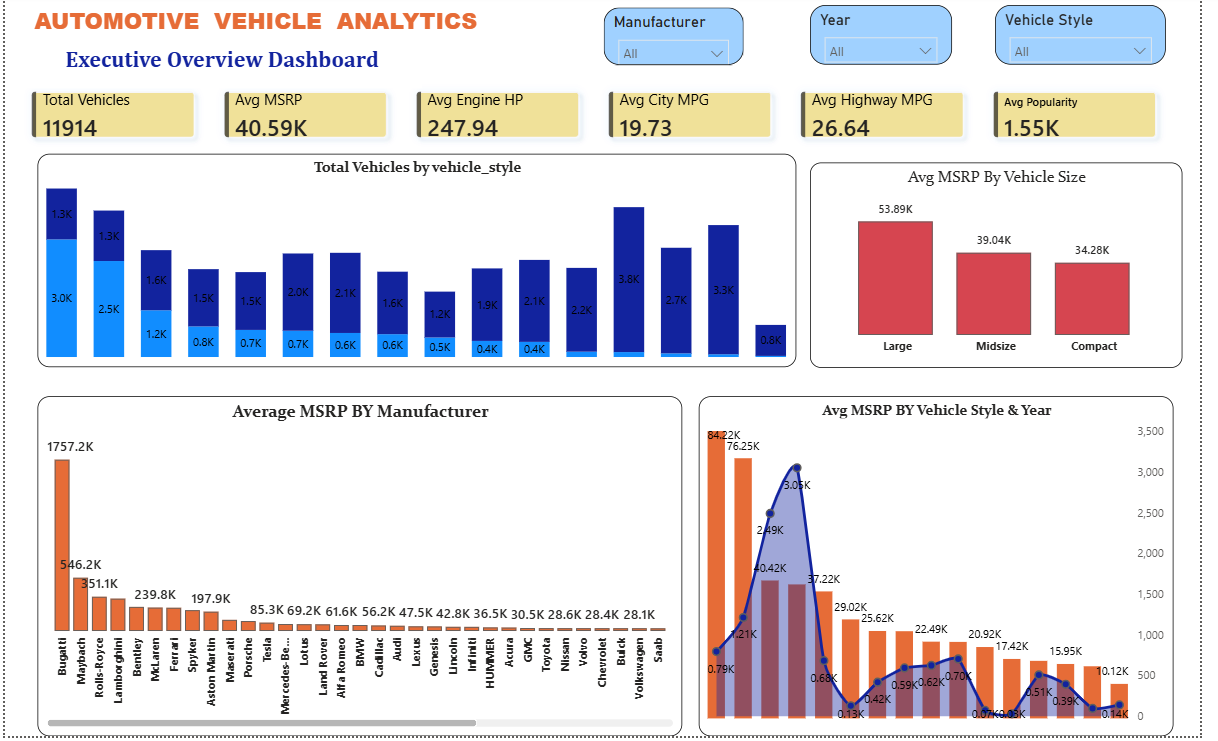

This screenshot's page, from the dashboard's own definition file:
{"tool":"powerbi","page":{"name":"Executive Dashboard","canvas":[1300,800],"ordinal":0},"visuals":[{"type":"cardVisual","fields":{"Data":["Measure Table.Total Vehicles","Measure Table.Avg MSRP","Measure Table.Avg Engine HP","Measure Table.Avg City MPG","Measure Table.Avg Highway MPG","Measure Table.Avg Popularity"]},"box":[0,70.9,1280.3,108.8],"z":0},{"type":"textbox","box":[19.6,45.2,434.1,51.4],"z":1000},{"type":"textbox","box":[0,0,545.4,45.2],"z":2000},{"type":"lineStackedColumnComboChart","title":"Average MSRP BY Manufacturer","fields":{"Category":["public car_sales.make"],"Y":["Measure Table.Avg MSRP"]},"box":[35.3,430.7,701.1,369.6],"z":3000},{"type":"lineStackedColumnComboChart","title":"Total Vehicles by vehicle_style","fields":{"Category":["public car_sales.vehicle_style"],"Y":["Measure Table.Total Vehicles","Measure Table.Avg Popularity"]},"box":[35.3,167.1,824.7,232.3],"z":4000},{"type":"clusteredColumnChart","title":"Avg MSRP By Vehicle Size","fields":{"Category":["public car_sales.vehicle_size"],"Y":["Measure Table.Avg MSRP"]},"box":[875,176.6,404.9,222.8],"z":5000},{"type":"lineStackedColumnComboChart","title":" Avg MSRP BY Vehicle Style & Year","fields":{"Y":["Measure Table.Avg MSRP"],"Category":["public car_sales.vehicle_style"],"Y2":["CountNonNull(public car_sales.year)"]},"box":[754.1,430.7,516.3,369.6],"z":6000},{"type":"slicer","title":"Manufacturer","fields":{"Values":["public car_sales.make"]},"box":[650.5,8.6,151.6,62.4],"z":7000},{"type":"slicer","title":"Vehicle Style","fields":{"Values":["public car_sales.vehicle_style"]},"box":[1076.1,4.9,185.9,64.8],"z":8000},{"type":"slicer","title":"Year","fields":{"Values":["public car_sales.vehicle_style"]},"box":[874.3,4.9,154.1,64.8],"z":9000}]}

Visuals, with their boxes in screenshot pixels (x1, y1, x2, y2), scaled from the page's 1300x800 canvas onto the 1218x741 screenshot:
cardVisual - Measure Table.Total Vehicles x Measure Table.Avg MSRP: pyautogui.locateOnScreen(0, 66, 1200, 166)
textbox: pyautogui.locateOnScreen(18, 42, 425, 89)
textbox: pyautogui.locateOnScreen(0, 0, 511, 42)
"Average MSRP BY Manufacturer" lineStackedColumnComboChart: pyautogui.locateOnScreen(33, 399, 690, 740)
"Total Vehicles by vehicle_style" lineStackedColumnComboChart: pyautogui.locateOnScreen(33, 155, 806, 370)
"Avg MSRP By Vehicle Size" clusteredColumnChart: pyautogui.locateOnScreen(820, 164, 1199, 370)
" Avg MSRP BY Vehicle Style & Year" lineStackedColumnComboChart: pyautogui.locateOnScreen(707, 399, 1190, 740)
"Manufacturer" slicer: pyautogui.locateOnScreen(609, 8, 752, 66)
"Vehicle Style" slicer: pyautogui.locateOnScreen(1008, 5, 1182, 65)
"Year" slicer: pyautogui.locateOnScreen(819, 5, 964, 65)
